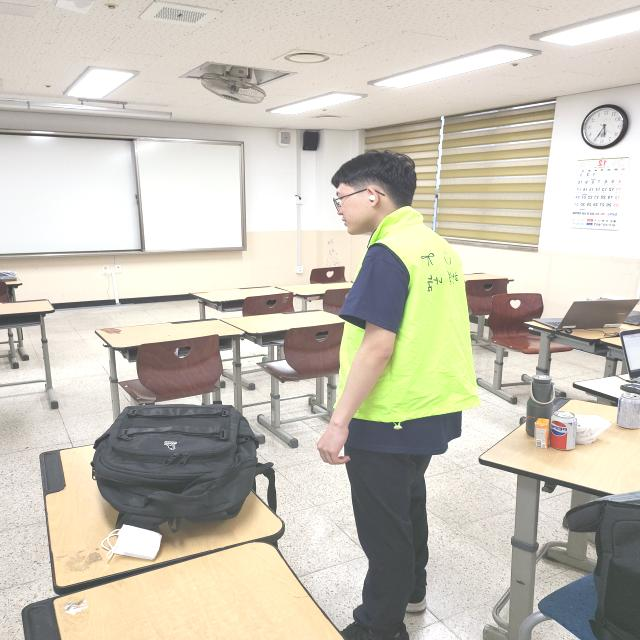weston_spy: (310, 195, 497, 441)
